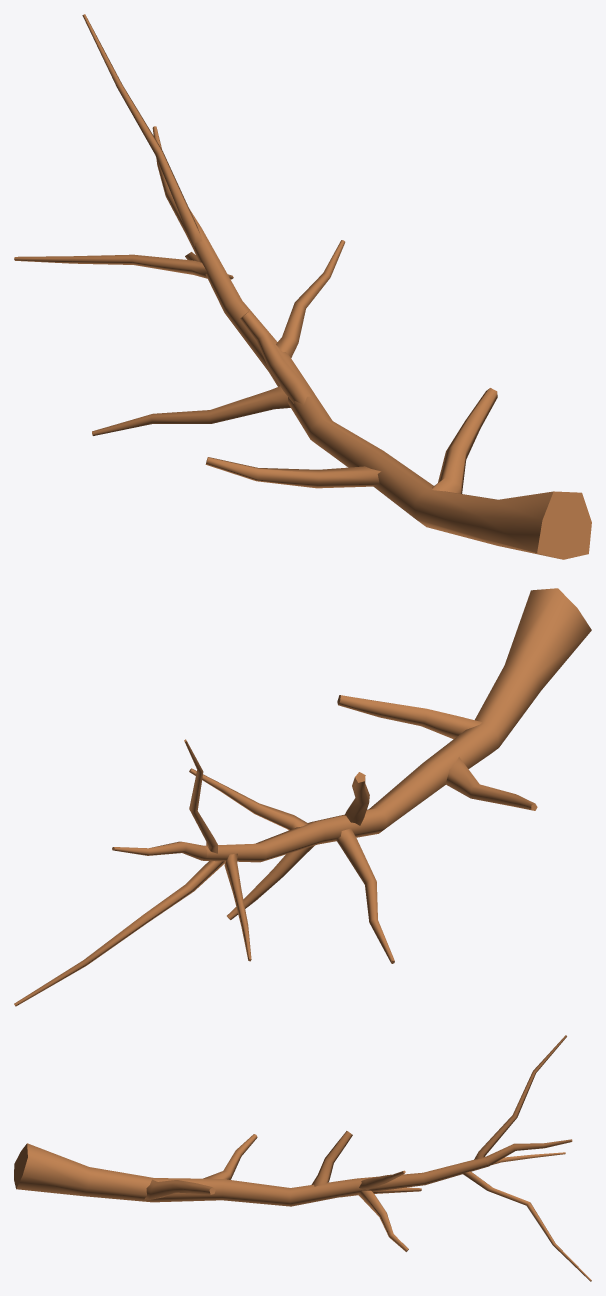
Rendered from itch_assetquest_pond_branch_1a.glb.
3 renders of one model, top to bottom at view 1: azimuth 30°, elevation 25°; view 2: azimuth 150°, elevation 25°; view 3: azimuth 270°, elevation 25°, orthographic. The views are drawn at different scales.
Visible parts, largest first — view 1: Branch_1a; view 2: Branch_1a; view 3: Branch_1a.
Boxes of the visible parts, box(x1,y1,x2,y2) form: Branch_1a: box(14, 14, 591, 559); Branch_1a: box(14, 588, 591, 1006); Branch_1a: box(14, 1035, 591, 1281).
Size of the model in its own units: 0.3554 by 0.3605 by 0.96.
